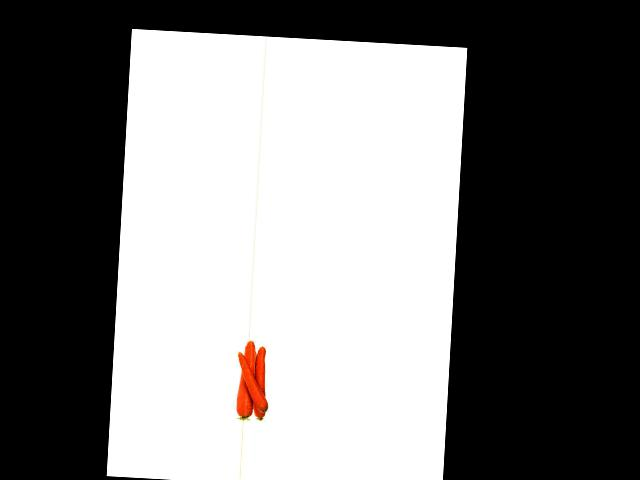carrot: (235, 337, 255, 421)
